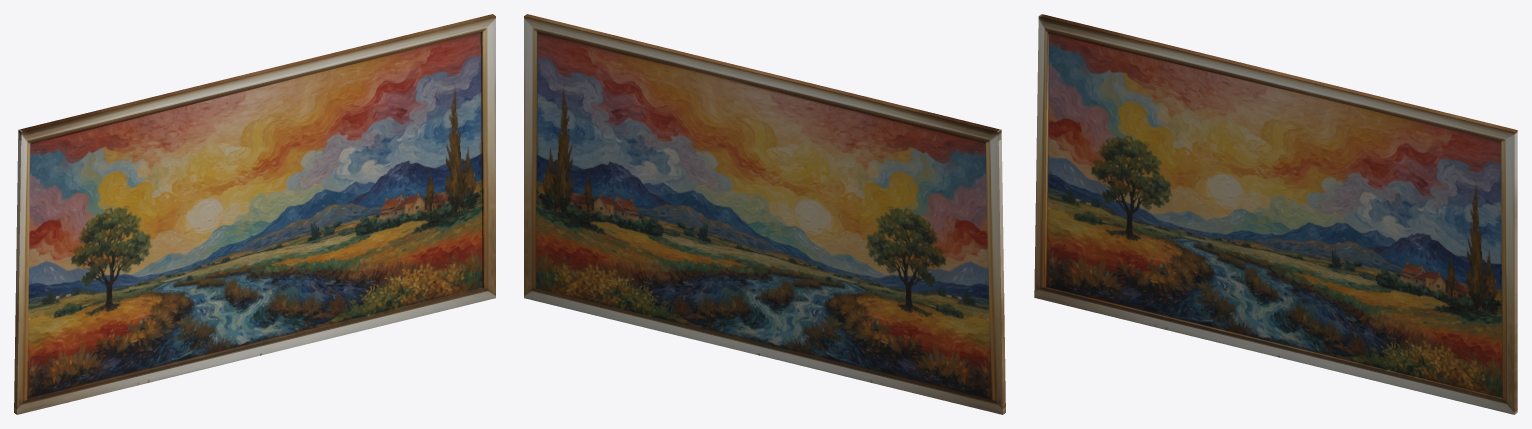
The model's file is Painting 3.fbx.
3 renders of one model, left to right at view 1: azimuth 30°, elevation 25°; view 2: azimuth 150°, elevation 25°; view 3: azimuth 330°, elevation 25°, orthographic.
Parts seen in each view (by area): view 1: Painting with frame; view 2: Painting with frame; view 3: Painting with frame.
Part boxes in pixels (x1,y1,x2,y2): Painting with frame: (14, 14, 495, 414); Painting with frame: (524, 14, 1005, 414); Painting with frame: (1034, 14, 1517, 414).
Size of the model in its own units: 819 by 461 by 9.08.
Materials: 1 (1 with a texture image).
